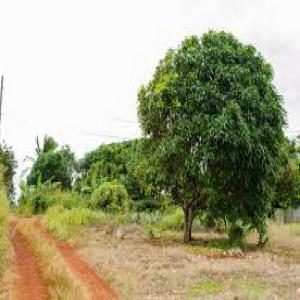Tree: (135, 24, 286, 242)
